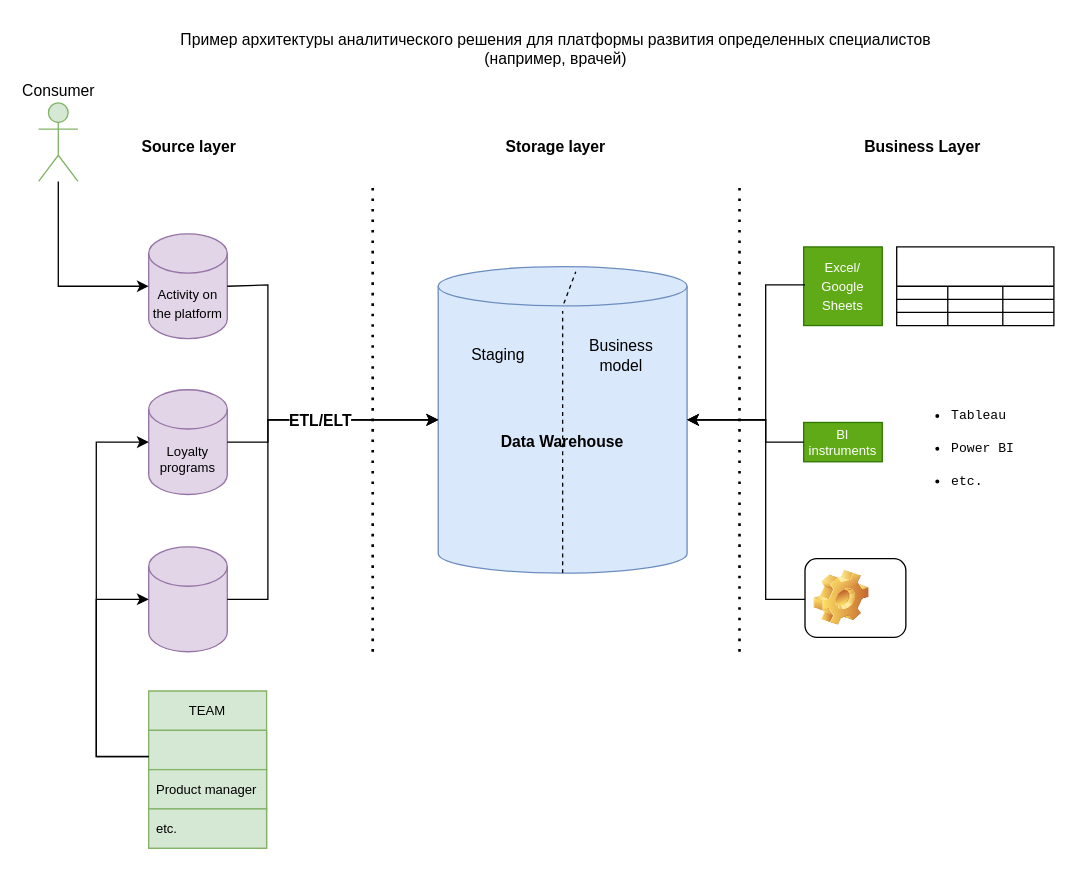
Some shapes in this 1077 by 871 pixel diagram are drawn without their labels. The shapes that lost their labels are listed below. From the top down, each one's centre as x and y in pixels, then its label:
At [974,286]: "Table".
At [187,599]: "New features".
At [855,597]: "SQL".
At [207,749]: "Developers".
